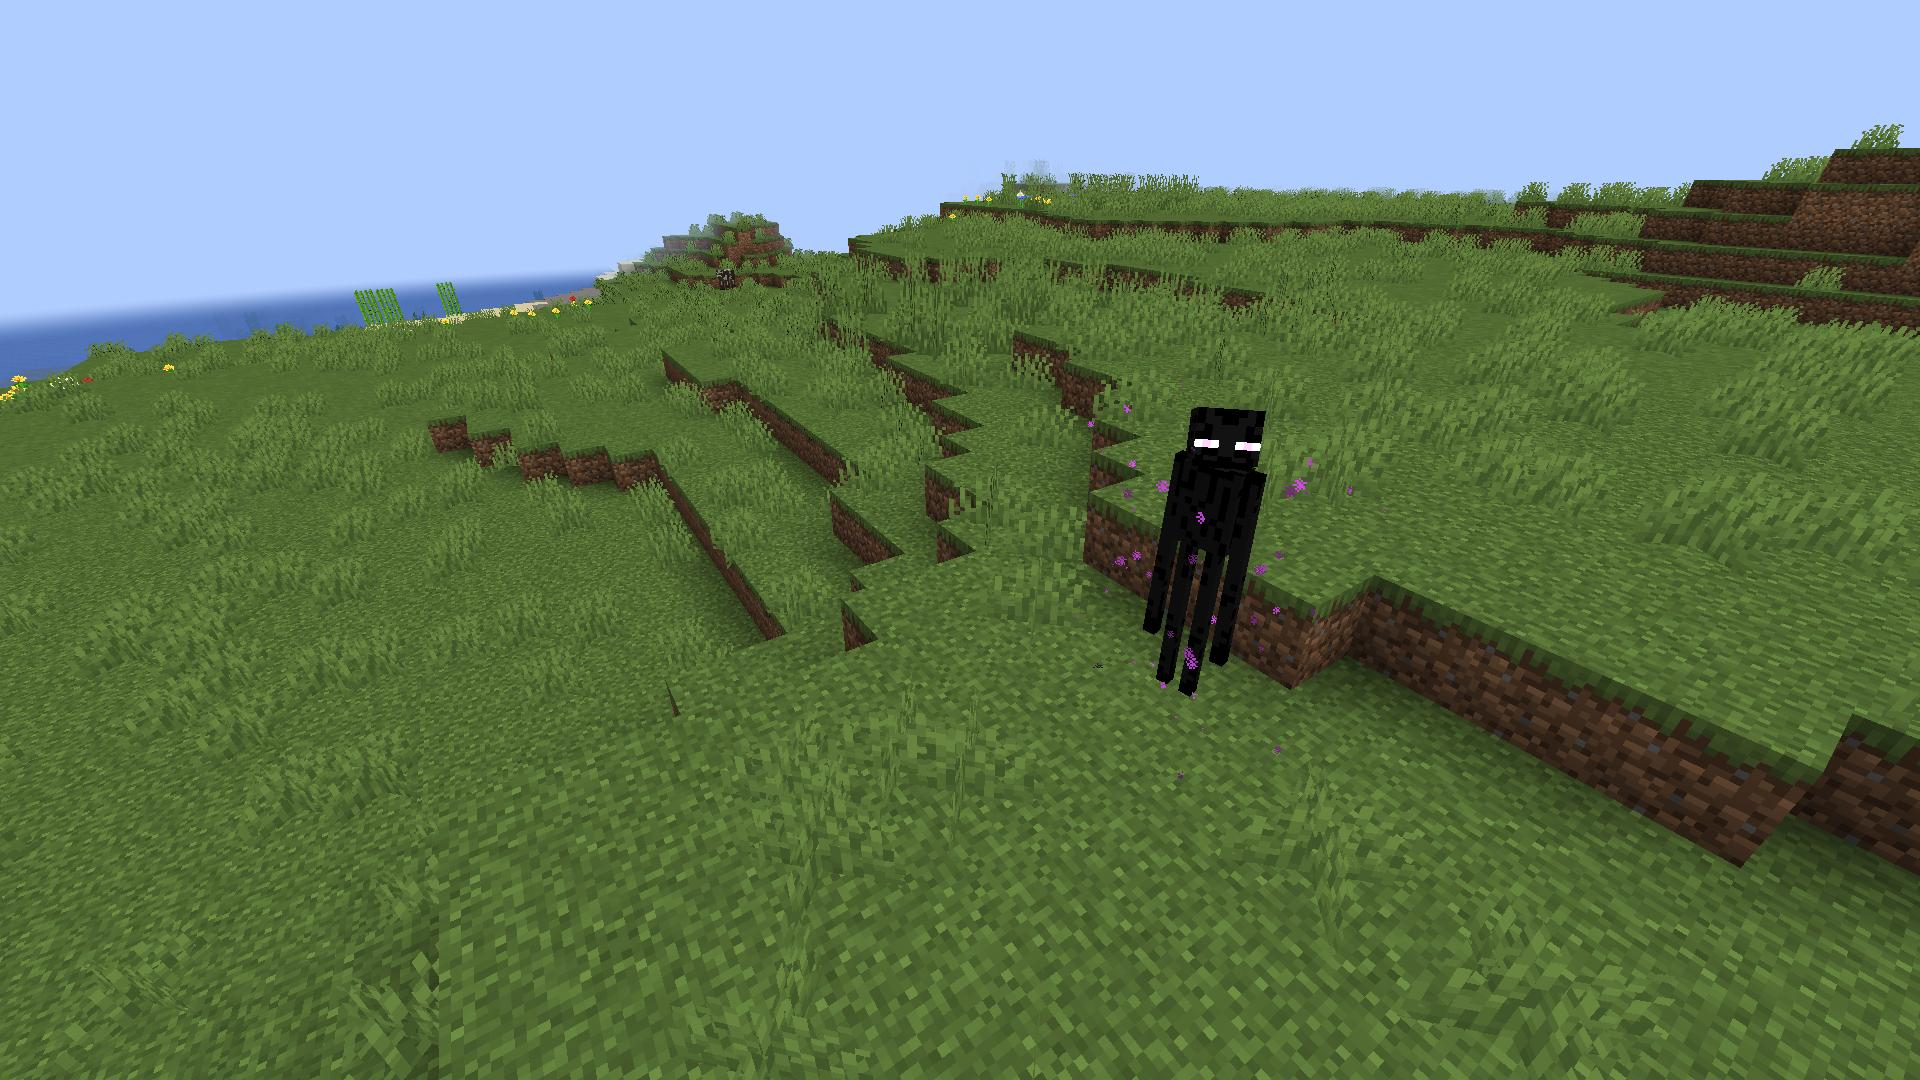enderman: (1134, 394, 1274, 700)
